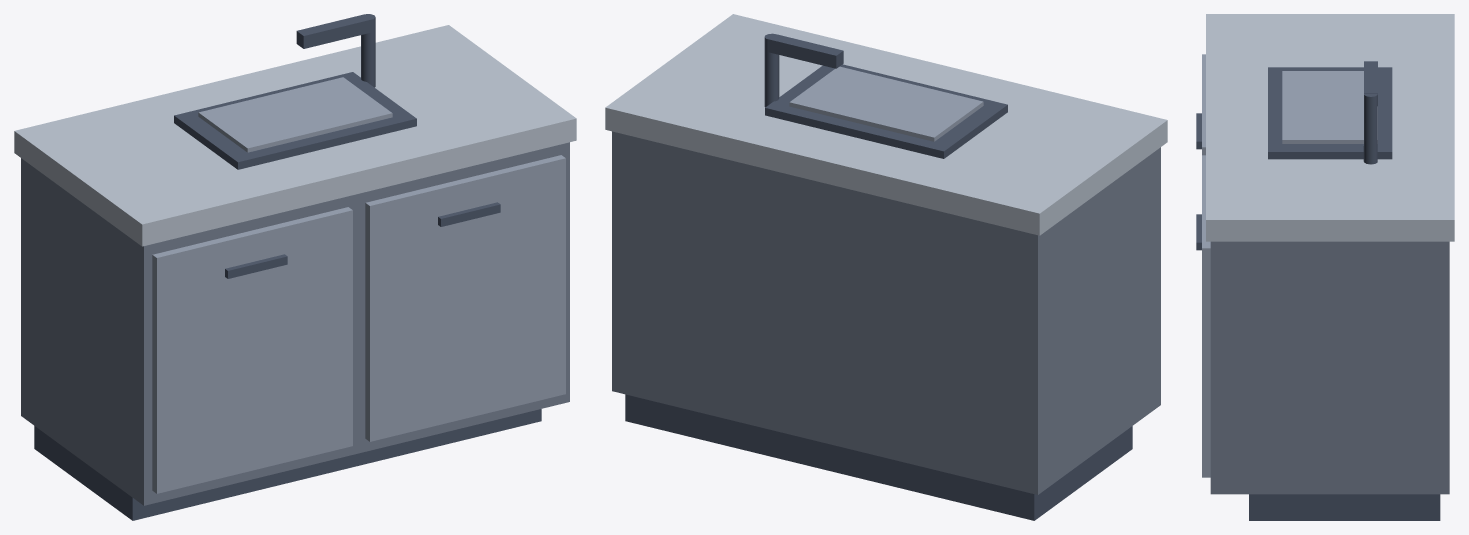
File: 地柜带水盆-lite.glb
3 views of the same model, side by side, from view 1: azimuth 30°, elevation 25°; view 2: azimuth 150°, elevation 25°; view 3: azimuth 270°, elevation 25° (orthographic). The views are drawn at different scales.
Parts seen in each view (by area): view 1: kitchensink; view 2: kitchensink; view 3: kitchensink.
Boxes of the visible parts, <box> form: kitchensink: <box>14,14,576,520</box>; kitchensink: <box>605,14,1167,520</box>; kitchensink: <box>1196,14,1454,520</box>.
Size of the model in its own units: 1.22 by 1.04 by 0.648.
